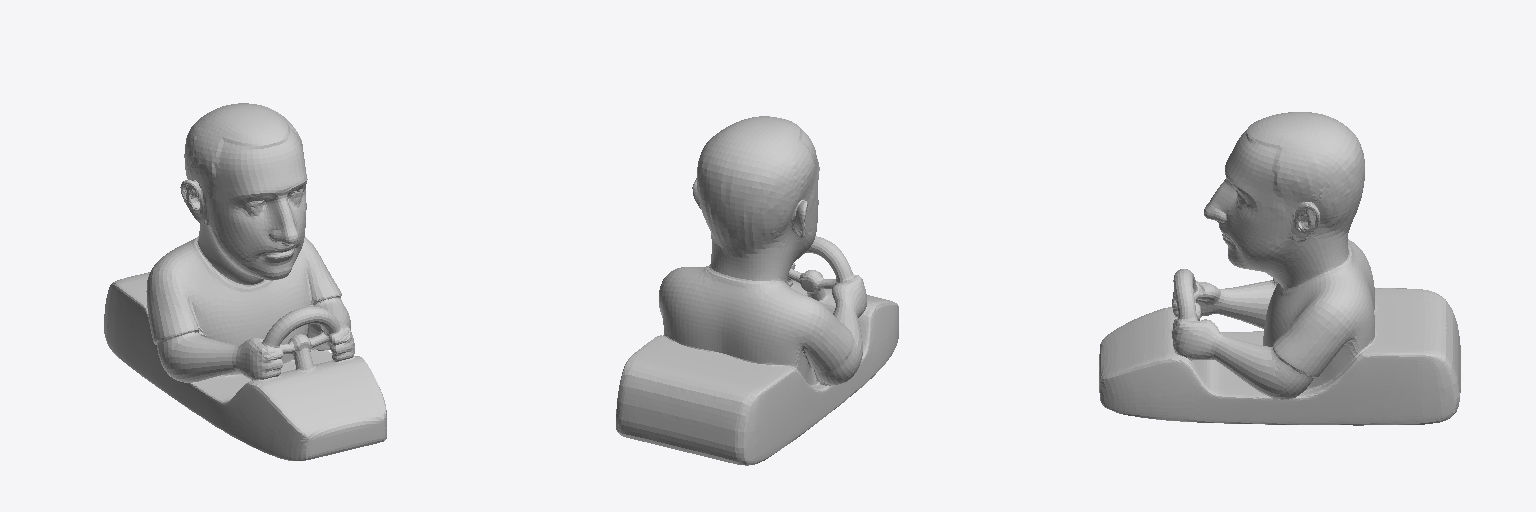
File: zuck.obj
3 views of the same model, side by side, from view 1: azimuth 30°, elevation 25°; view 2: azimuth 150°, elevation 25°; view 3: azimuth 270°, elevation 25° (orthographic).
Parts seen in each view (by area): view 1: model; view 2: model; view 3: model.
Boxes of the visible parts, x1,y1,x2,y2 form: model: [104, 103, 386, 460]; model: [616, 116, 898, 465]; model: [1099, 112, 1460, 425].
Bounding box in the file's own units: 1.1 × 1.58 × 1.9.